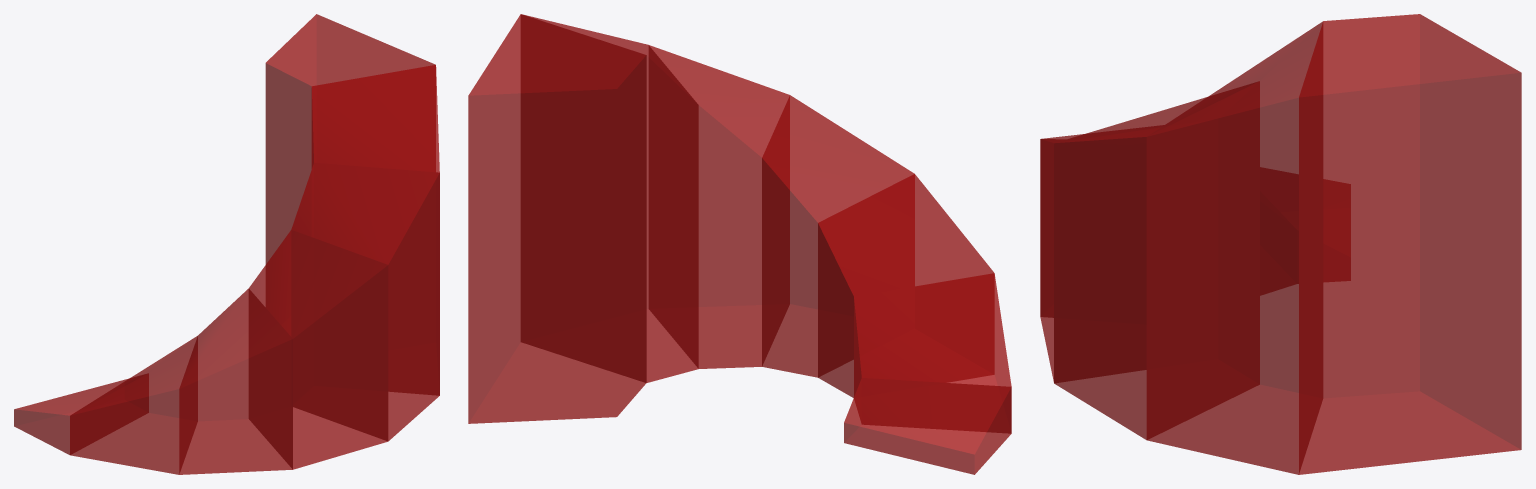
The model's file is SM_Bld_Ruin_Tower_Round_Stairs_01_Collision.fbx.
3 renders of one model, left to right at view 1: azimuth 30°, elevation 25°; view 2: azimuth 150°, elevation 25°; view 3: azimuth 270°, elevation 25°, orthographic. The views are drawn at different scales.
Visible parts, largest first — view 1: SM_Bld_Ruin_Tower_Round_Stairs_01_Collision; view 2: SM_Bld_Ruin_Tower_Round_Stairs_01_Collision; view 3: SM_Bld_Ruin_Tower_Round_Stairs_01_Collision.
Part boxes in pixels (box(x1,y1,x2,y2)): SM_Bld_Ruin_Tower_Round_Stairs_01_Collision: box(14, 14, 439, 474); SM_Bld_Ruin_Tower_Round_Stairs_01_Collision: box(468, 14, 1011, 474); SM_Bld_Ruin_Tower_Round_Stairs_01_Collision: box(1040, 14, 1521, 474).
Size of the model in its own units: 653 by 430 by 497.
